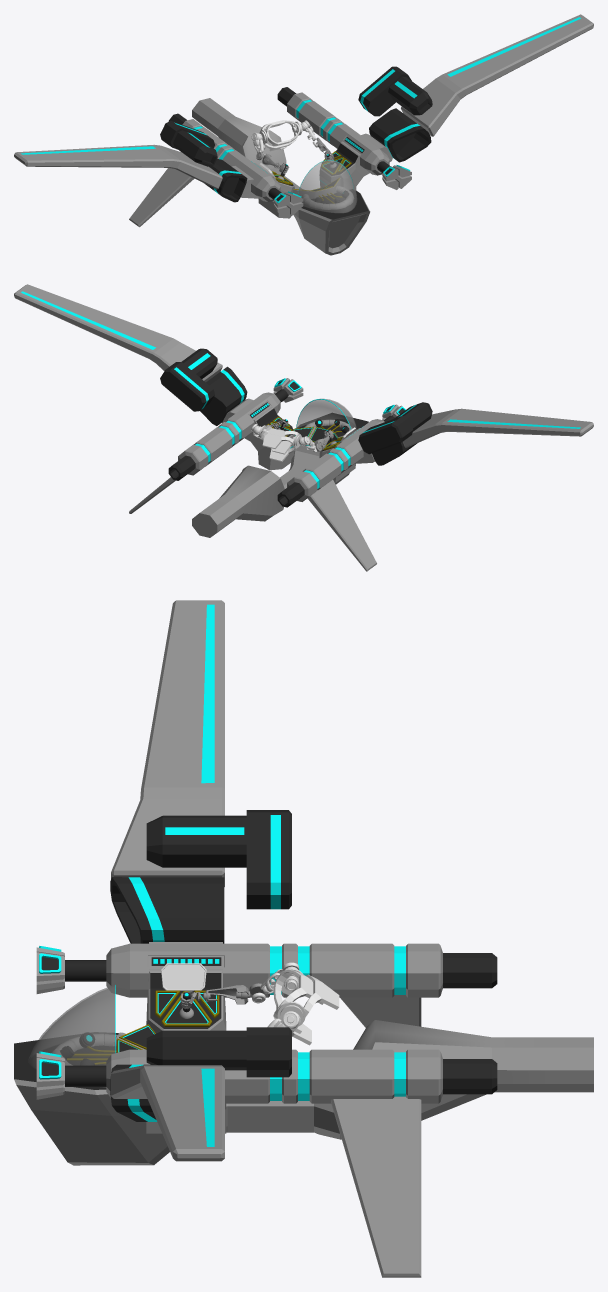
The model's file is fighter.FBX.
3 renders of one model, top to bottom at view 1: azimuth 30°, elevation 25°; view 2: azimuth 150°, elevation 25°; view 3: azimuth 270°, elevation 25°, orthographic. The views are drawn at different scales.
Parts seen in each view (by area): view 1: fighter, Cylinder011; view 2: fighter, Cylinder011; view 3: fighter, Cylinder011, Box010.
Boxes of the visible parts, <box> form: fighter: <box>14,14,593,255</box>; Cylinder011: <box>259,120,302,151</box>; fighter: <box>14,284,593,571</box>; Cylinder011: <box>259,425,301,461</box>; fighter: <box>14,600,593,1277</box>; Cylinder011: <box>273,968,339,1045</box>; Box010: <box>161,963,206,990</box>.
Size of the model in its own units: 2039 by 495 by 905.
